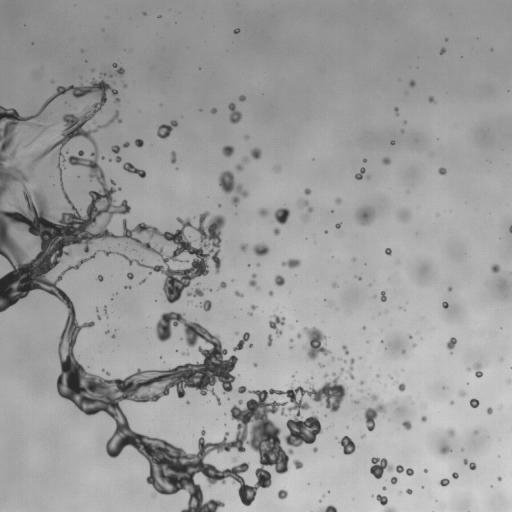droplet: (303, 327, 330, 360), (364, 402, 386, 431), (157, 120, 177, 138), (269, 314, 285, 336), (356, 207, 374, 225), (339, 436, 356, 454), (228, 103, 241, 123), (274, 208, 289, 224), (281, 258, 300, 268), (253, 244, 269, 255), (249, 274, 259, 288), (222, 145, 234, 156), (375, 494, 387, 505), (397, 210, 410, 220), (250, 148, 261, 159), (446, 337, 456, 349), (474, 363, 482, 377), (355, 168, 365, 179), (275, 275, 285, 286), (201, 300, 211, 311), (439, 445, 451, 454), (293, 459, 303, 469), (277, 489, 287, 499), (470, 398, 479, 408), (402, 420, 411, 429), (439, 478, 449, 486), (134, 139, 143, 147), (111, 145, 119, 154), (231, 196, 239, 205), (259, 208, 267, 217), (491, 264, 499, 273), (342, 345, 349, 354), (369, 394, 378, 401), (380, 291, 386, 301), (382, 157, 390, 164), (438, 167, 446, 174), (398, 383, 405, 391), (240, 244, 247, 251), (219, 282, 226, 289), (390, 477, 397, 484), (235, 291, 243, 297), (273, 228, 279, 235), (385, 248, 391, 255), (127, 272, 133, 279), (442, 301, 448, 308), (448, 429, 454, 436), (409, 80, 415, 86), (239, 95, 245, 101), (428, 96, 434, 102), (304, 188, 310, 194), (302, 214, 308, 220), (97, 275, 103, 281), (459, 390, 465, 396), (452, 472, 458, 478), (487, 407, 492, 414), (233, 28, 239, 33), (123, 142, 129, 147), (116, 156, 121, 162), (335, 223, 341, 228), (406, 489, 412, 494), (124, 285, 131, 289), (440, 48, 445, 53), (211, 108, 216, 113), (335, 198, 340, 203), (140, 279, 145, 284), (251, 305, 256, 310), (421, 416, 426, 421), (232, 457, 237, 462), (394, 107, 398, 113), (182, 351, 188, 355), (275, 166, 280, 170), (332, 283, 337, 287), (319, 363, 324, 367), (313, 447, 317, 452), (115, 98, 119, 102), (269, 291, 273, 295), (289, 338, 293, 342), (324, 373, 328, 377), (497, 476, 501, 480), (43, 126, 47, 129), (391, 140, 394, 144), (248, 312, 252, 315), (97, 315, 100, 319), (297, 334, 301, 337), (360, 381, 364, 384), (353, 400, 357, 403), (474, 430, 477, 434), (361, 434, 364, 438), (363, 159, 366, 162), (448, 287, 451, 290), (362, 326, 365, 329), (249, 344, 252, 347), (402, 350, 405, 353), (106, 372, 109, 375), (389, 375, 392, 378), (450, 401, 453, 404), (424, 469, 427, 472), (382, 487, 385, 490), (104, 307, 106, 311), (245, 135, 247, 138), (102, 156, 104, 159), (352, 258, 355, 260), (257, 263, 259, 266), (358, 277, 361, 279), (106, 330, 108, 333), (112, 335, 114, 338), (409, 335, 411, 338), (413, 343, 415, 346), (359, 356, 361, 359), (254, 363, 256, 366), (359, 389, 361, 392), (186, 401, 189, 403), (143, 12, 145, 14), (110, 75, 112, 77), (124, 85, 126, 87), (58, 206, 60, 208), (133, 248, 135, 250), (332, 357, 334, 359), (467, 368, 469, 370), (377, 374, 379, 376), (461, 448, 463, 450), (399, 492, 401, 494)
ligament: (0, 73, 354, 511), (370, 457, 413, 478), (218, 170, 248, 197), (123, 162, 146, 177), (233, 332, 249, 350), (299, 199, 313, 212), (236, 157, 248, 170), (186, 288, 203, 296), (113, 63, 124, 75), (464, 458, 476, 469), (318, 505, 337, 511), (171, 151, 176, 163), (57, 162, 61, 176), (267, 335, 272, 346), (383, 507, 396, 511), (509, 226, 511, 232)
